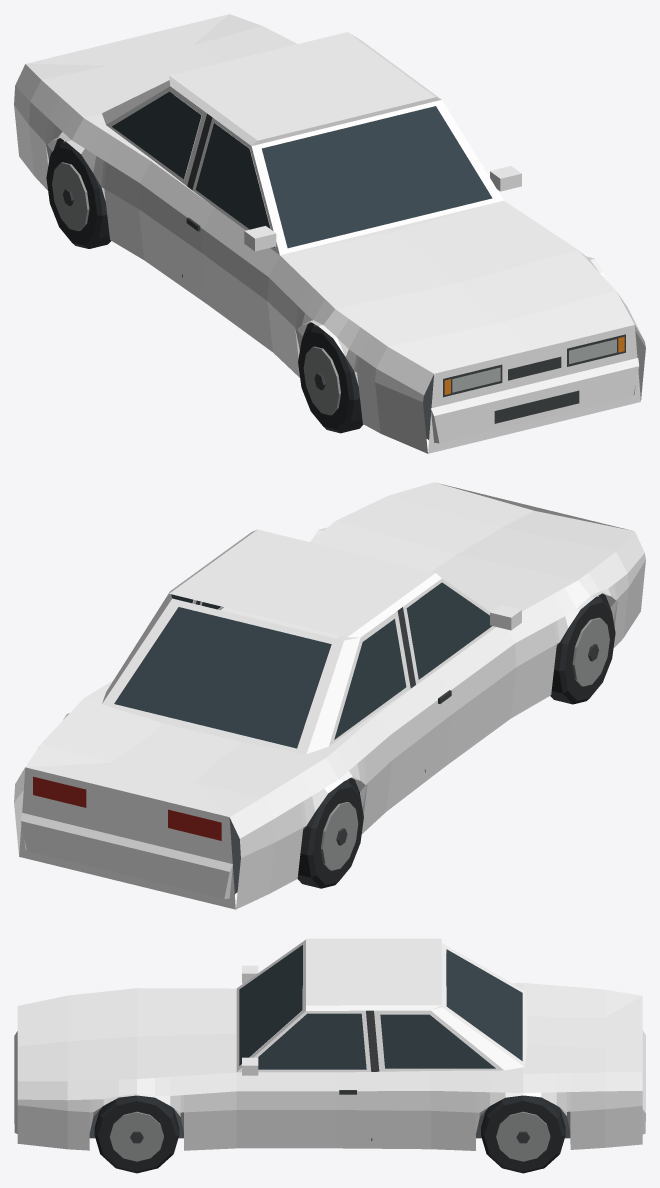
The model's file is kanaya_botan_s.glb.
3 views of the same model, one above another, from view 1: azimuth 30°, elevation 25°; view 2: azimuth 150°, elevation 25°; view 3: azimuth 270°, elevation 25° (orthographic). The views are drawn at different scales.
Visible parts, largest first — view 1: kanaya_botan_s; view 2: kanaya_botan_s; view 3: kanaya_botan_s.
Part boxes in pixels (box(x1,y1,x2,y2)): kanaya_botan_s: box(14, 14, 645, 453); kanaya_botan_s: box(14, 482, 645, 909); kanaya_botan_s: box(14, 938, 645, 1173).
Size of the model in its own units: 1.81 by 1.24 by 4.66.
8 materials, 1 textured.
